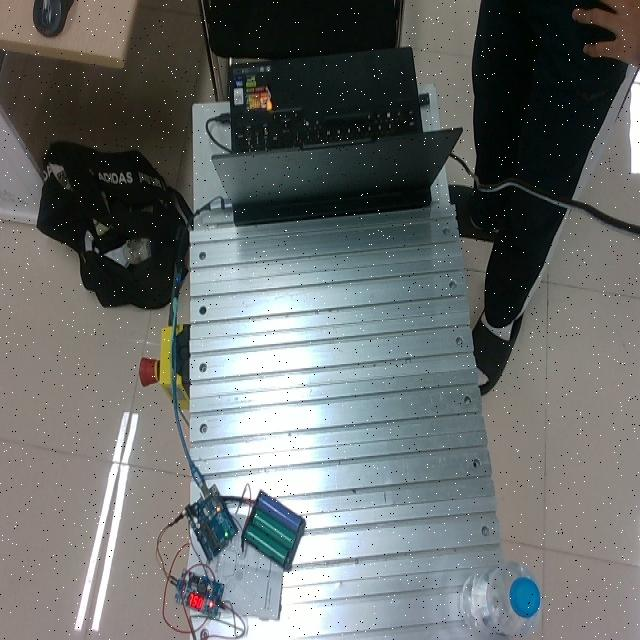lavie: (459, 560, 543, 636)
